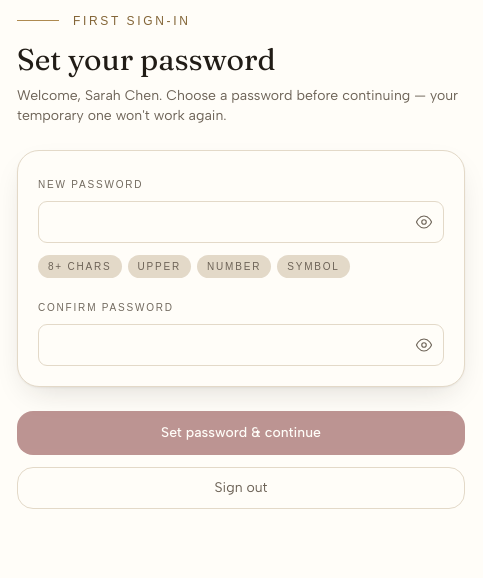
FirstLoginPassword › shows the recovery message for a FirstLoginConfirmError (password saved, confirm failed)
The width and height of the screenshot is (483, 578).
Type "Str0ng!pass" into the password field labelled "New password" at (241, 222), box x1=38 y1=200 x2=444 y2=242
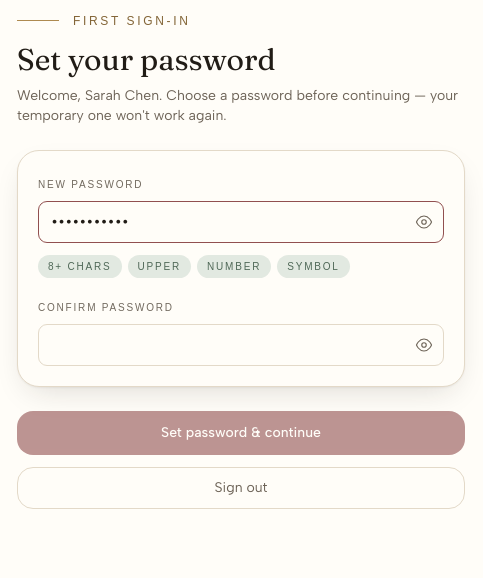
Type "Str0ng!pass" into the password field labelled "Confirm password" at (241, 344), box x1=38 y1=324 x2=444 y2=366
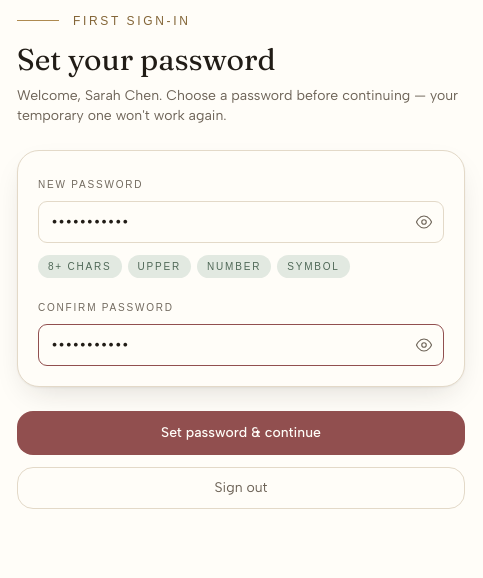
Click the button "Set password & continue" at (241, 432), box x1=17 y1=410 x2=465 y2=454
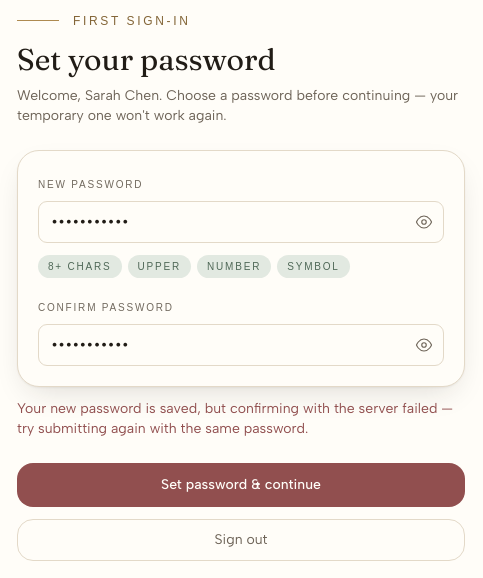
Expected: the button "Set password & continue" is enabled, x1=17 y1=462 x2=465 y2=506
Expected: the text "new password is saved" is shown, x1=17 y1=400 x2=453 y2=436
